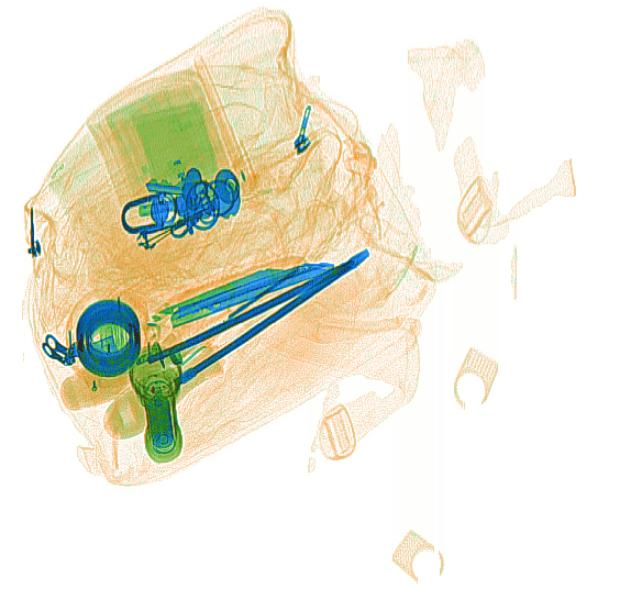battery: (146, 394, 172, 449)
knife: (152, 258, 335, 330)
